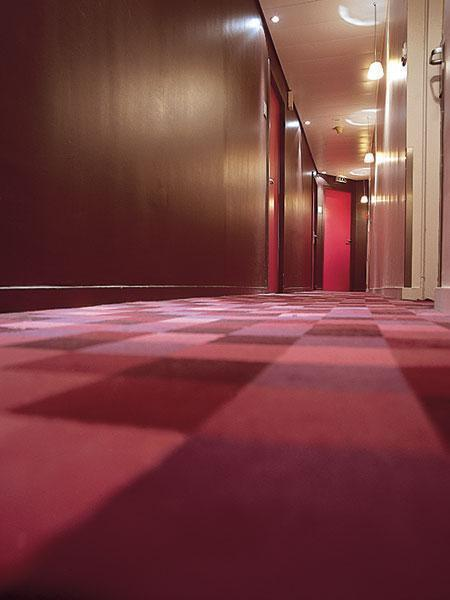Puerta: (427, 6, 449, 294), (263, 92, 288, 293), (323, 183, 356, 291)
